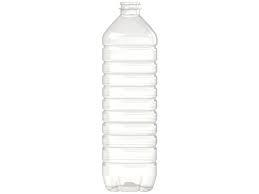bottle: (86, 0, 174, 194)
